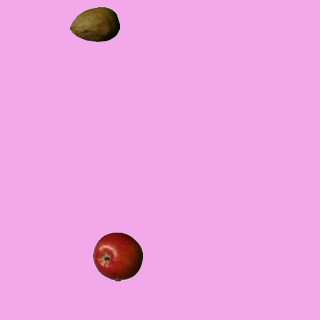Apple Braeburn: (92, 231, 142, 281)
Papaya: (69, 0, 119, 49)
